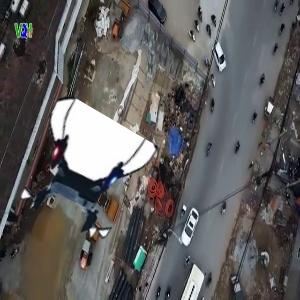drone: (22, 113, 146, 237)
